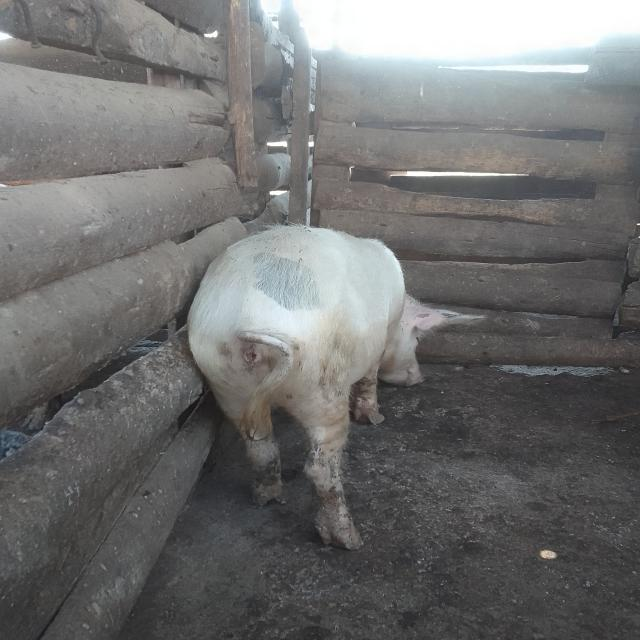pig: (126, 134, 515, 575)
